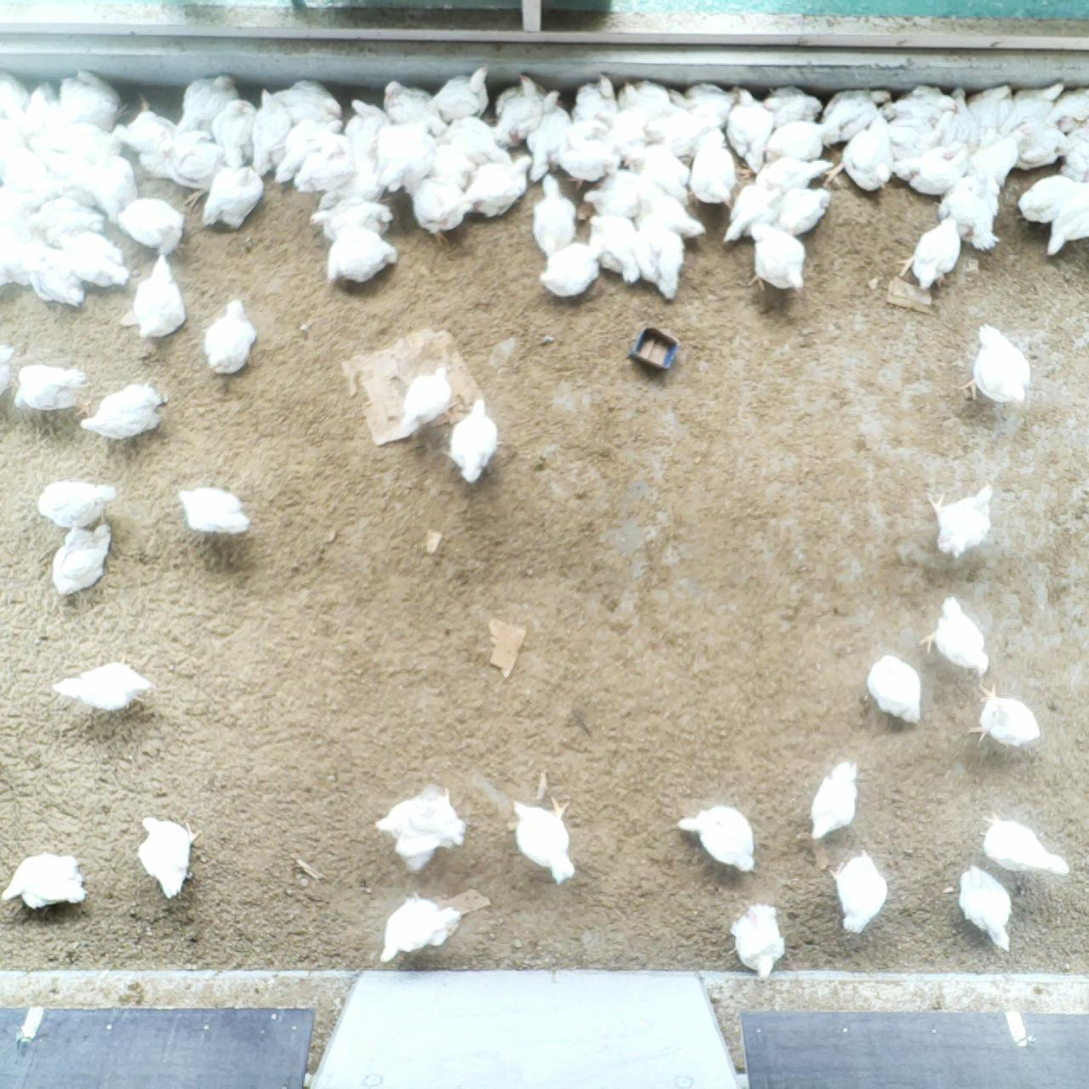chicken: (372, 781, 473, 872), (503, 788, 579, 885), (376, 885, 464, 967), (974, 809, 1073, 881), (673, 800, 761, 877), (958, 320, 1034, 408), (50, 653, 157, 715), (918, 592, 993, 678), (951, 861, 1019, 955), (923, 479, 999, 560), (135, 814, 205, 901), (827, 844, 891, 939), (440, 395, 505, 488), (965, 678, 1044, 754), (0, 851, 95, 914), (822, 115, 894, 198), (155, 127, 226, 210), (12, 360, 95, 429), (322, 222, 400, 295), (129, 250, 190, 341), (271, 116, 348, 188), (48, 521, 116, 602), (78, 380, 168, 440), (23, 120, 120, 175), (112, 88, 179, 167), (728, 897, 787, 986), (896, 214, 964, 291), (631, 209, 685, 305), (934, 175, 1000, 252), (376, 118, 441, 194), (462, 151, 533, 219), (56, 67, 129, 133), (203, 295, 261, 378), (864, 650, 927, 726), (407, 175, 472, 248), (807, 758, 862, 844), (56, 228, 131, 291), (724, 84, 775, 176), (889, 140, 971, 197), (746, 220, 809, 294), (525, 87, 573, 183), (175, 483, 254, 541), (399, 363, 460, 438), (492, 73, 552, 148), (115, 195, 185, 259), (582, 168, 666, 221), (623, 143, 696, 203), (34, 477, 118, 529), (316, 142, 381, 209), (306, 193, 394, 242), (819, 87, 892, 146), (722, 183, 787, 247), (689, 126, 738, 210), (531, 171, 580, 255), (201, 165, 262, 232), (544, 136, 624, 187), (536, 235, 600, 298), (24, 195, 108, 243), (250, 86, 294, 177), (1039, 180, 1089, 260), (432, 115, 513, 164), (586, 214, 643, 283), (641, 109, 721, 158), (81, 152, 141, 217), (633, 187, 707, 239), (272, 77, 345, 129), (1005, 117, 1075, 171), (23, 245, 86, 305), (378, 78, 445, 133), (1003, 80, 1069, 135), (181, 74, 240, 133), (667, 80, 741, 127), (0, 177, 69, 225), (434, 64, 491, 122), (757, 119, 833, 162), (211, 96, 256, 168), (771, 185, 834, 235), (342, 97, 391, 161), (1014, 176, 1075, 227), (886, 83, 960, 125), (932, 86, 979, 150), (967, 80, 1015, 142), (759, 83, 822, 128), (592, 105, 657, 148), (752, 157, 834, 191), (569, 71, 621, 123), (967, 131, 1024, 178), (425, 144, 479, 191), (887, 116, 943, 161), (21, 80, 62, 141), (0, 224, 39, 285), (962, 162, 1004, 217), (1043, 84, 1089, 134), (617, 78, 673, 119), (0, 68, 31, 130), (0, 144, 46, 183), (1063, 127, 1089, 174)
